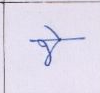e_matra: (44, 25, 62, 38)
